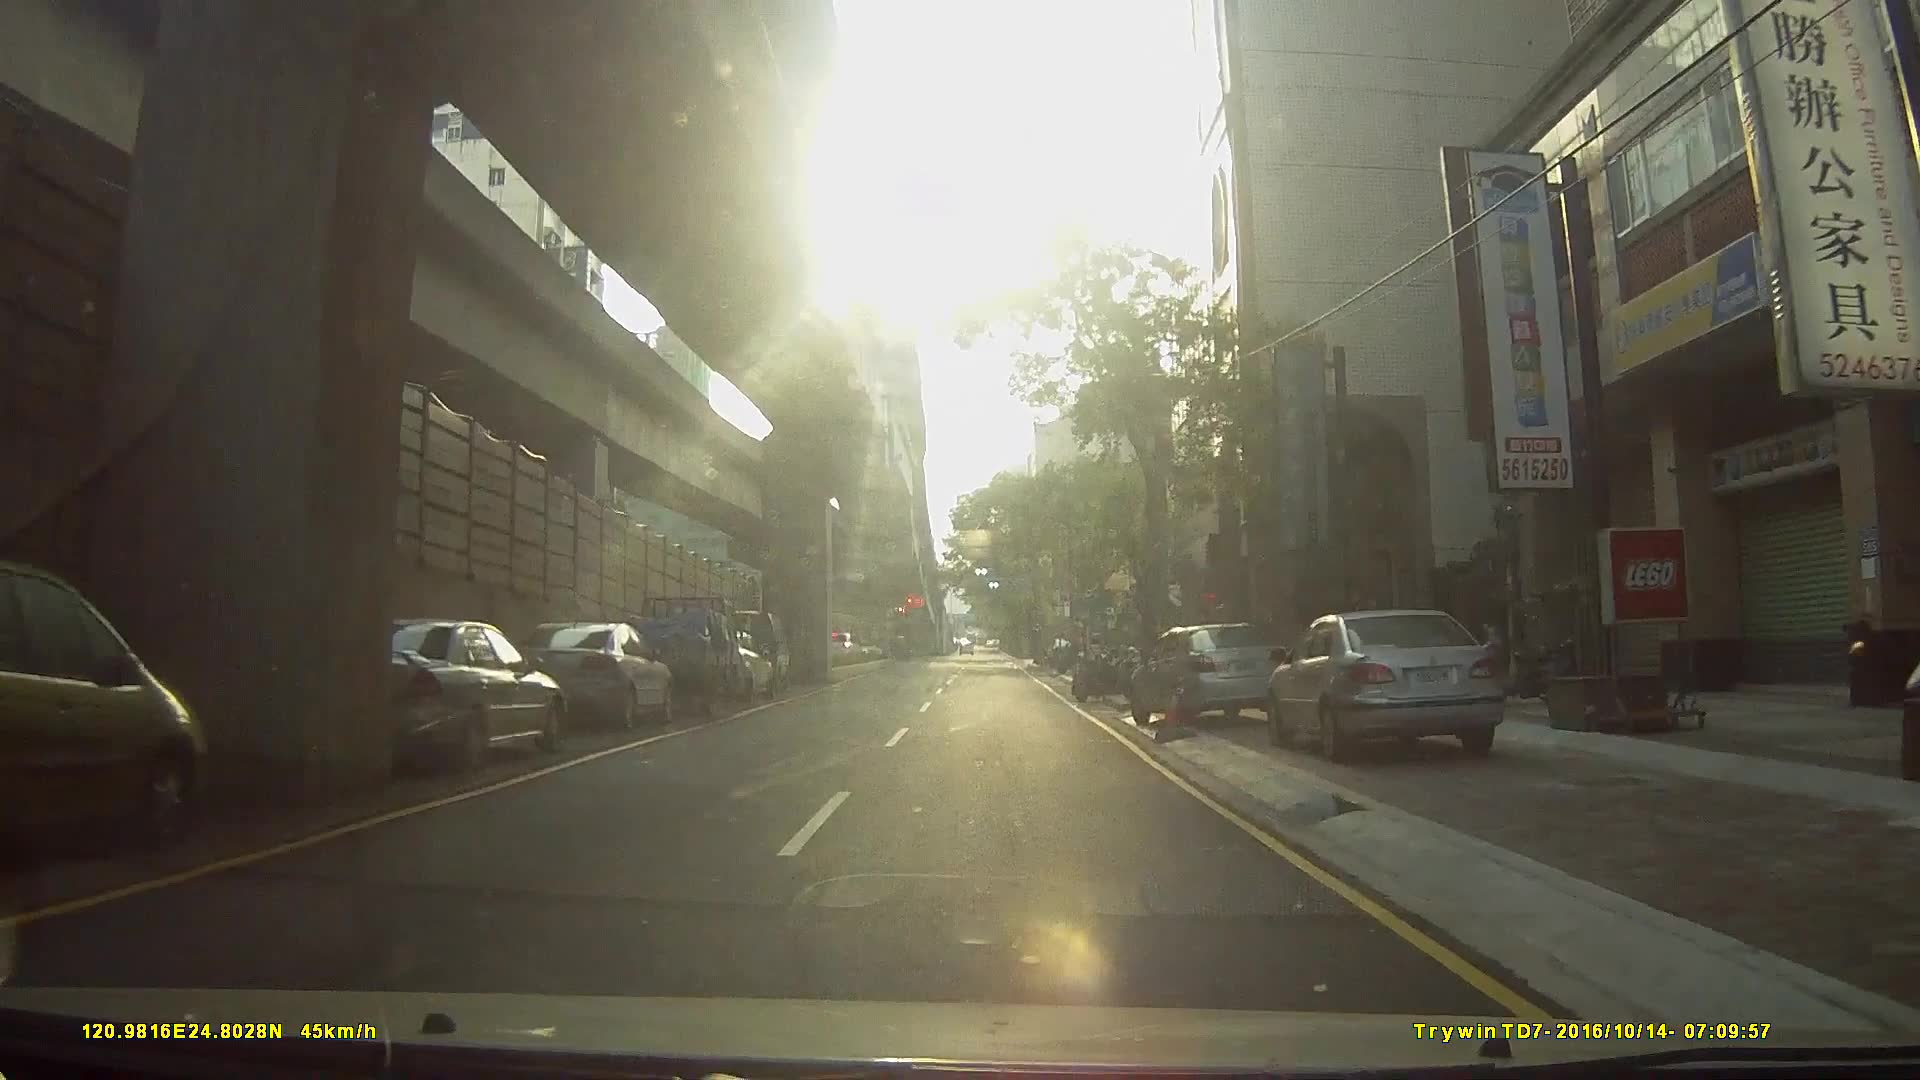rider: (1072, 628, 1135, 700)
vehicle: (1, 554, 219, 865), (1267, 606, 1522, 766), (329, 614, 578, 773), (498, 617, 670, 732), (1131, 618, 1300, 731), (610, 589, 740, 715)
